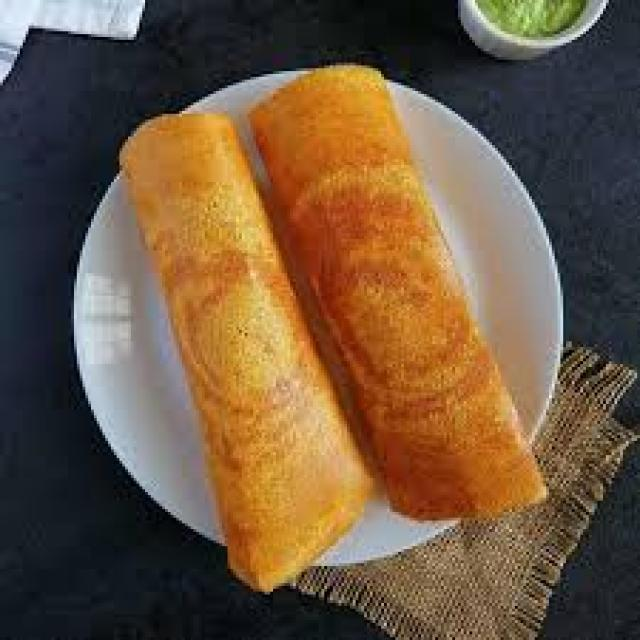DOSA: (250, 63, 552, 522), (115, 116, 370, 596)
